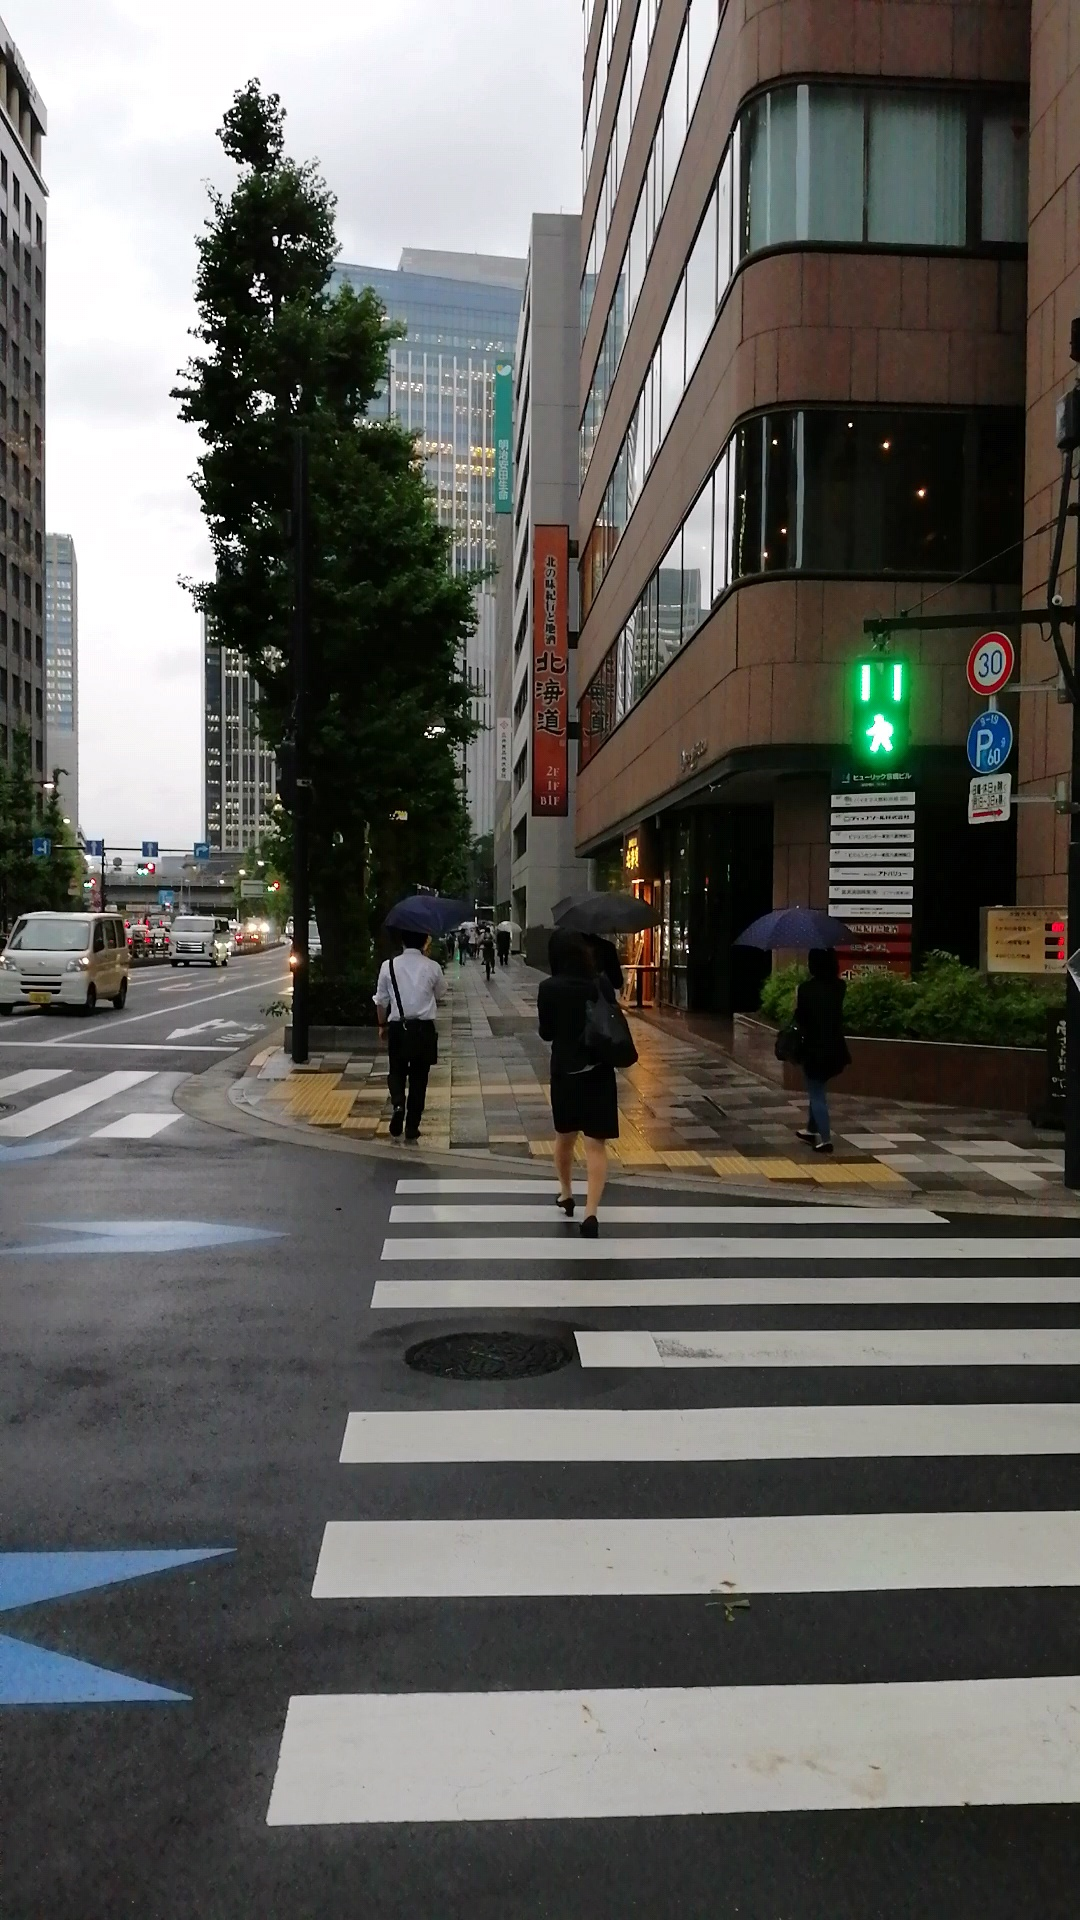green: (847, 650, 913, 771)
